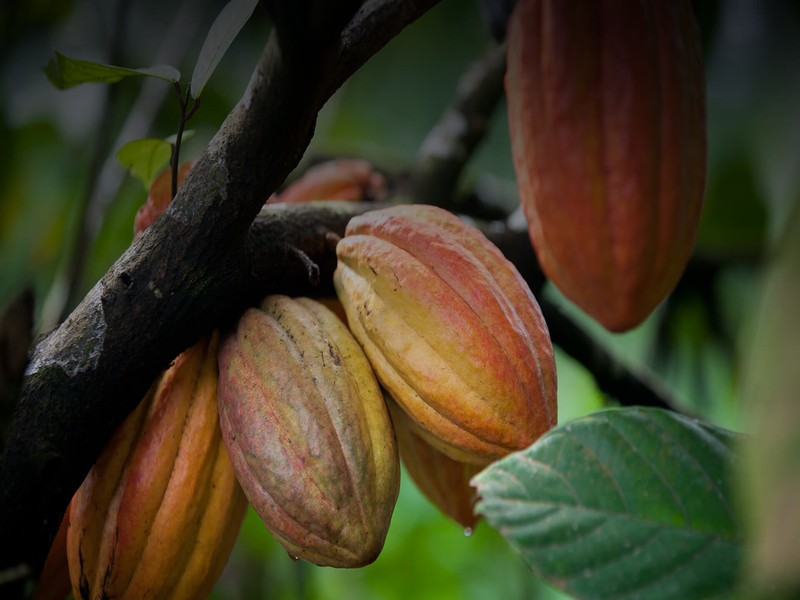Cacaopod: (330, 202, 570, 465), (211, 297, 400, 568)
